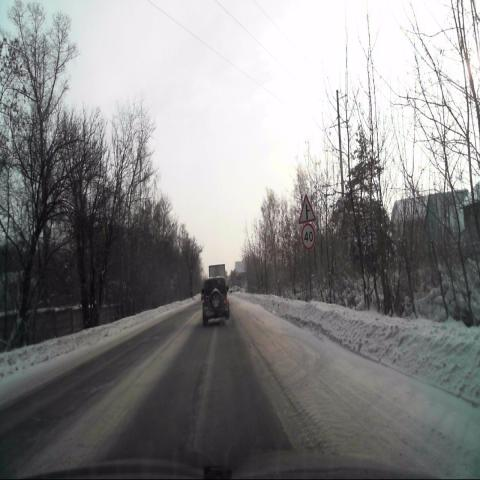2_3_2: (297, 194, 316, 224)
